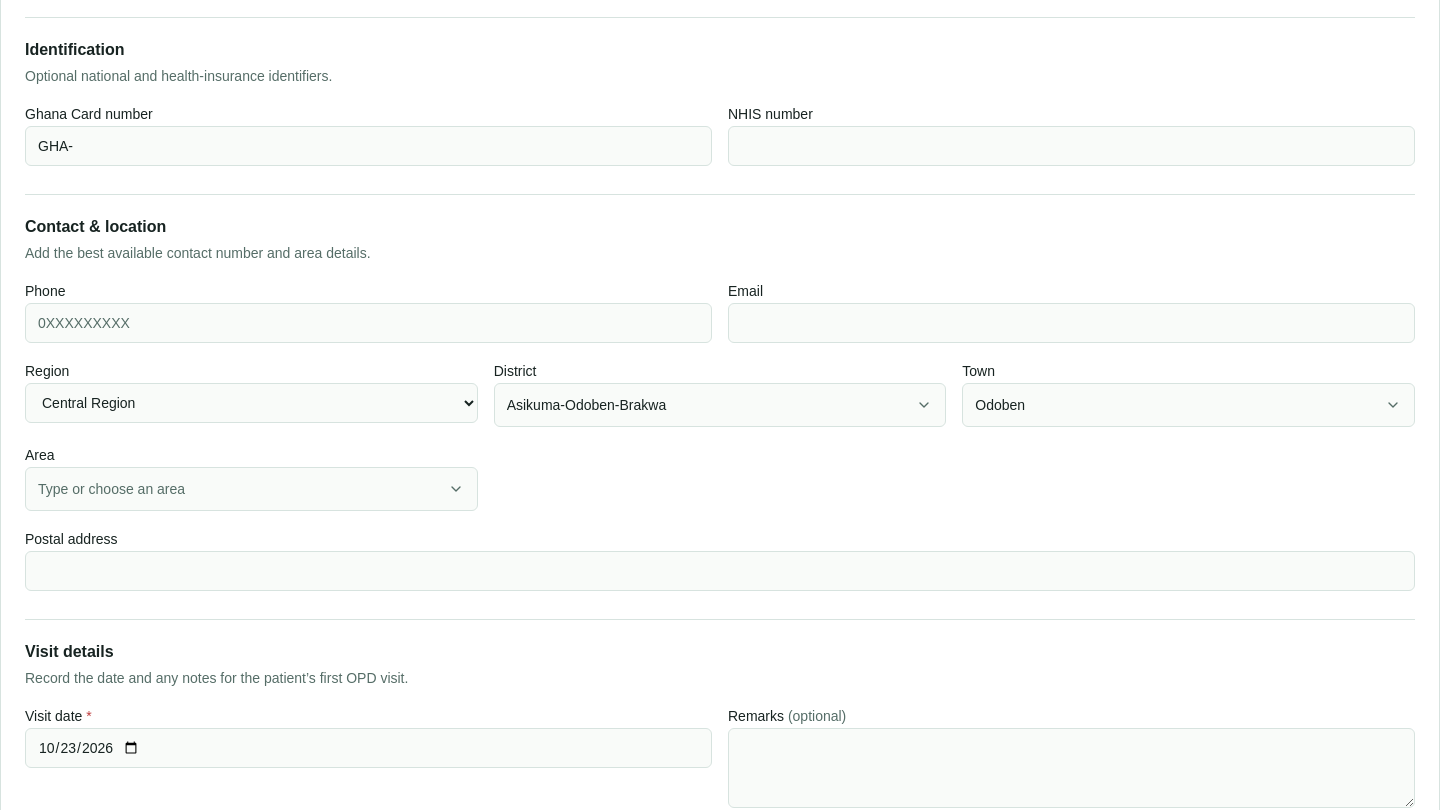
PatientForm defaults and guidance › shows all location suggestions when the mobile-friendly dropdown is tapped
(page scrolled)
Click the button named "Show district suggestions".
click(924, 405)  # box [902,383,946,427]
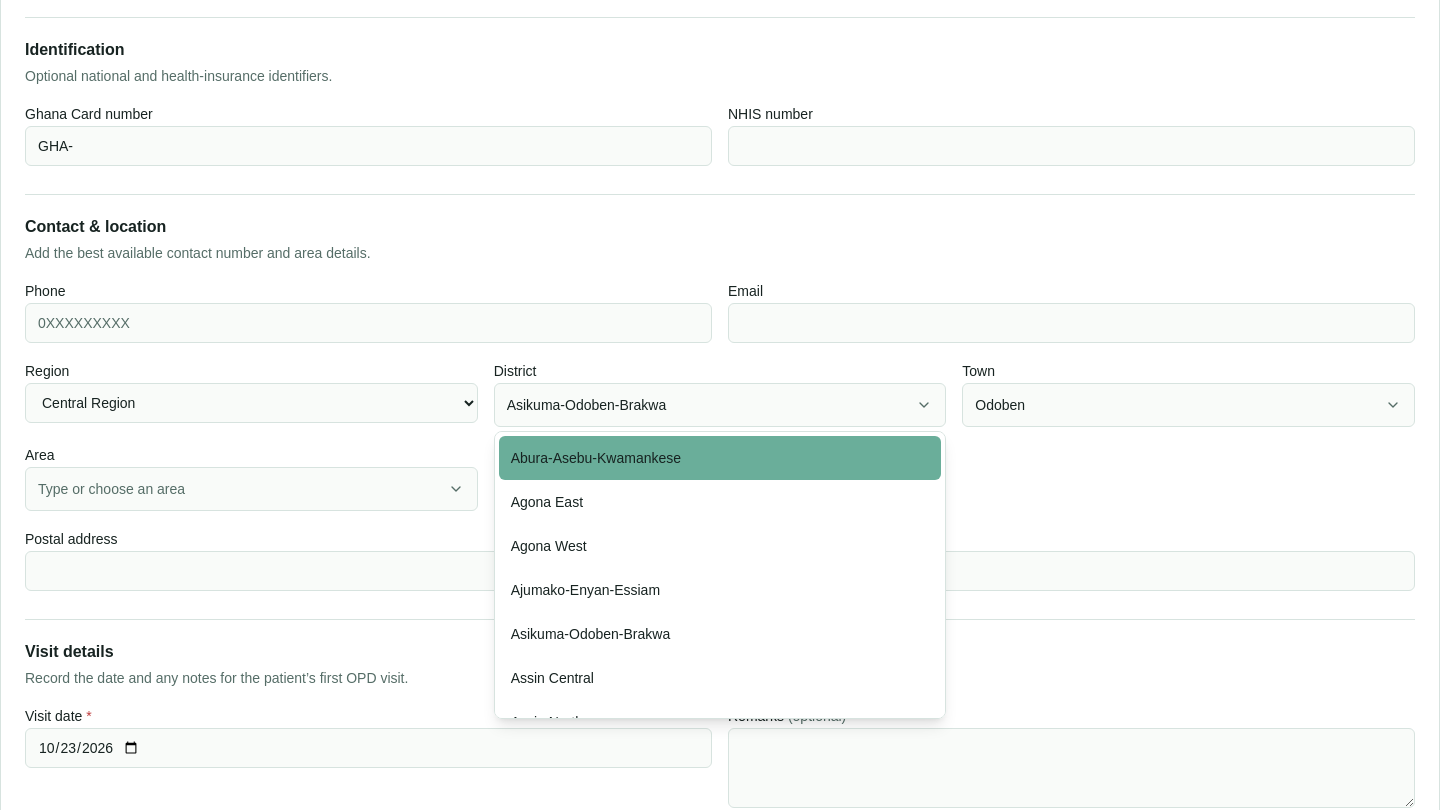
Now the option "Abura-Asebu-Kwamankese" is shown, box [499,436,941,480]
Now the option "Agona West" is shown, box [511,538,587,554]
